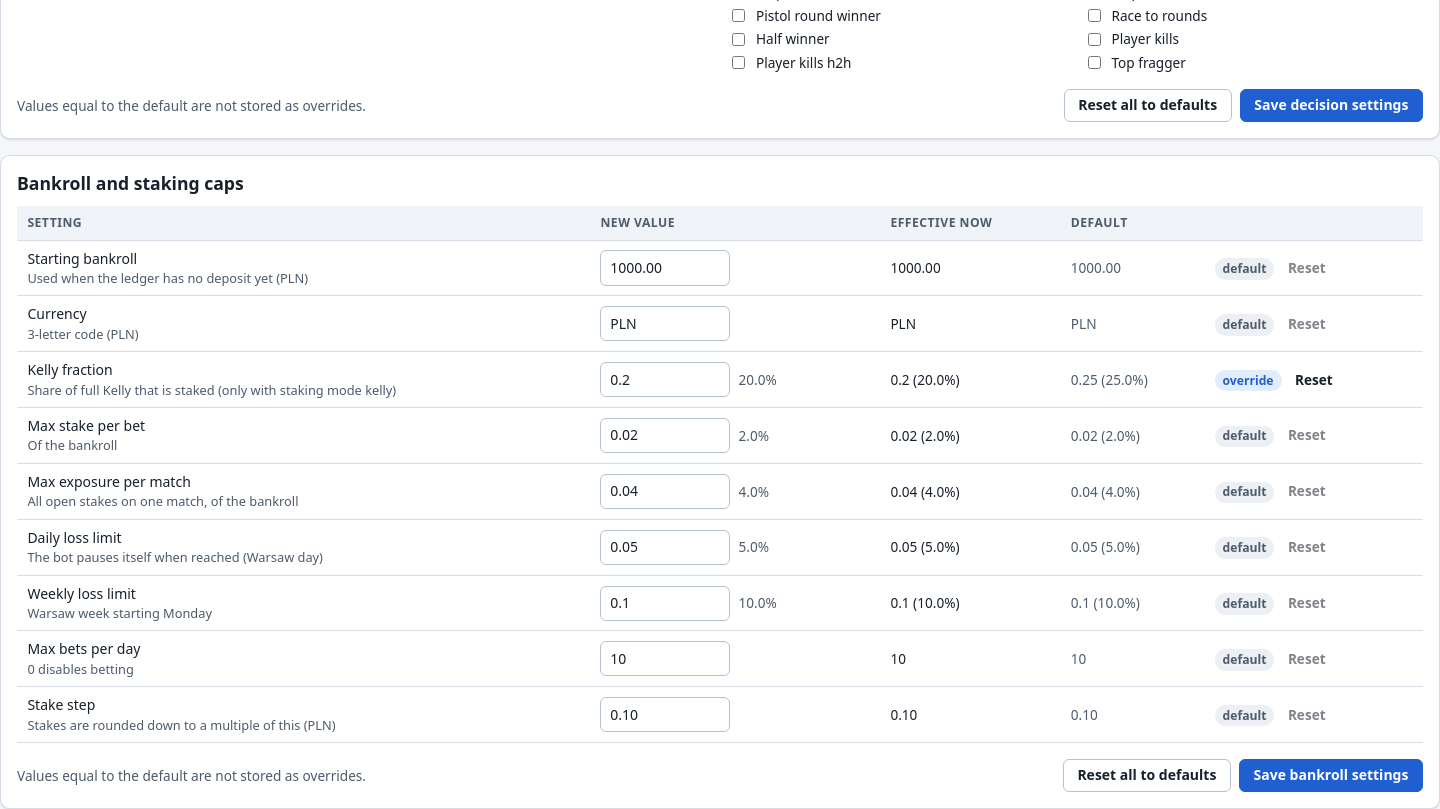
Test: SettingsPage › PUTs only the edited section with every non-default value
(page scrolled)
Replace the text in the number field labelled "Max bets per day" with "5": point(666, 659) [600,641,730,676]
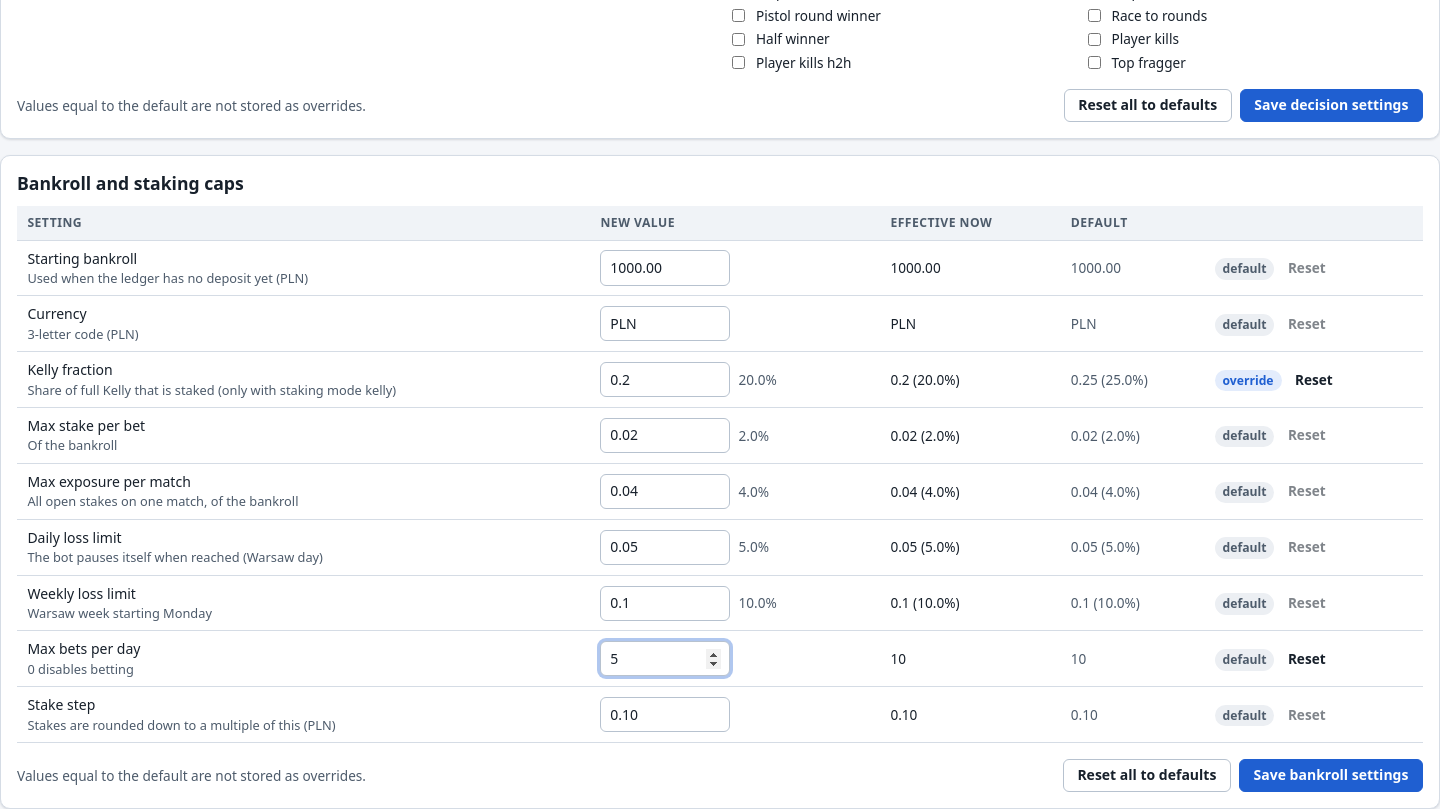
Click the button "Save bankroll settings": point(1331, 776) [1239,759,1423,792]
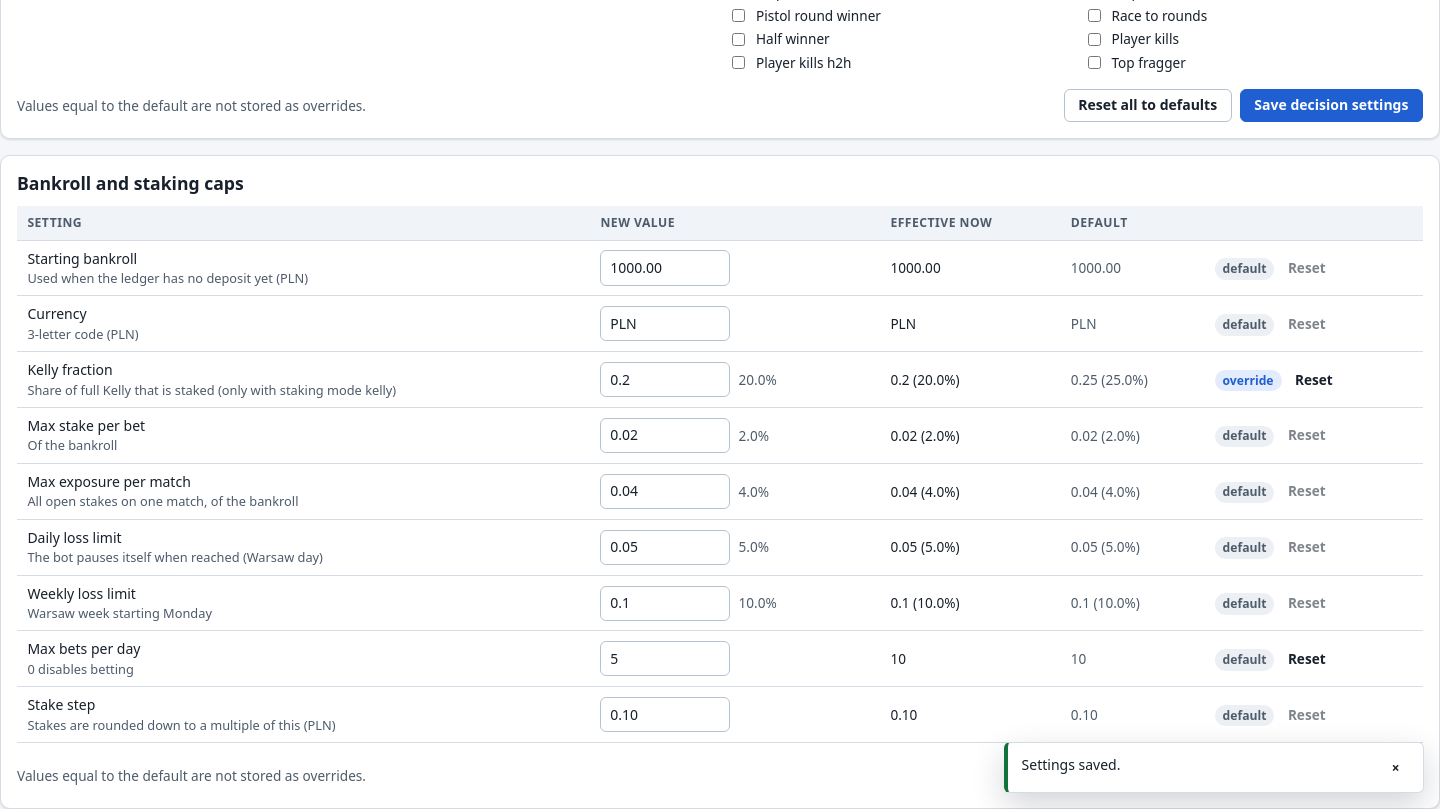
Now the text "Settings saved." is shown, box [1022,754,1120,774]
